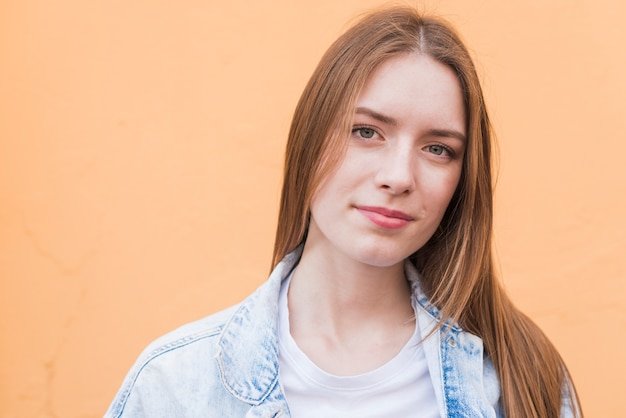teen: (295, 9, 496, 286)
